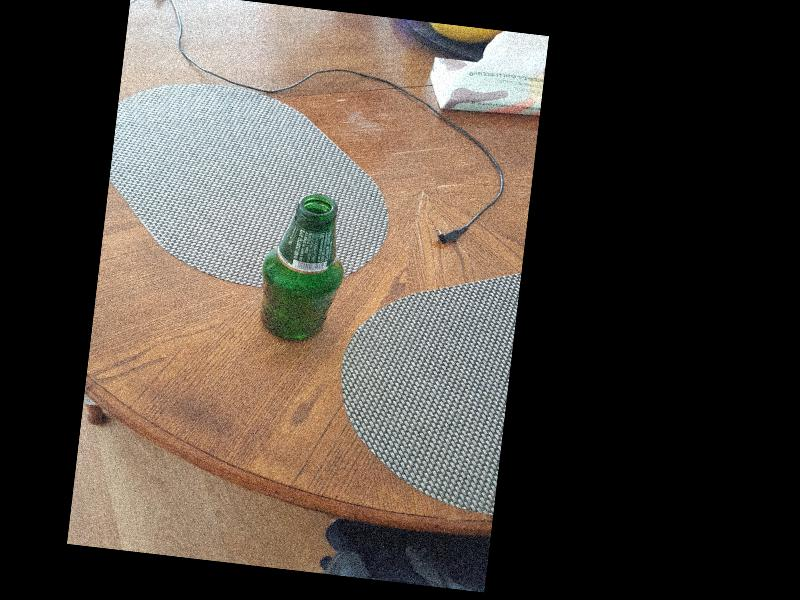Beer: (255, 187, 349, 345)
